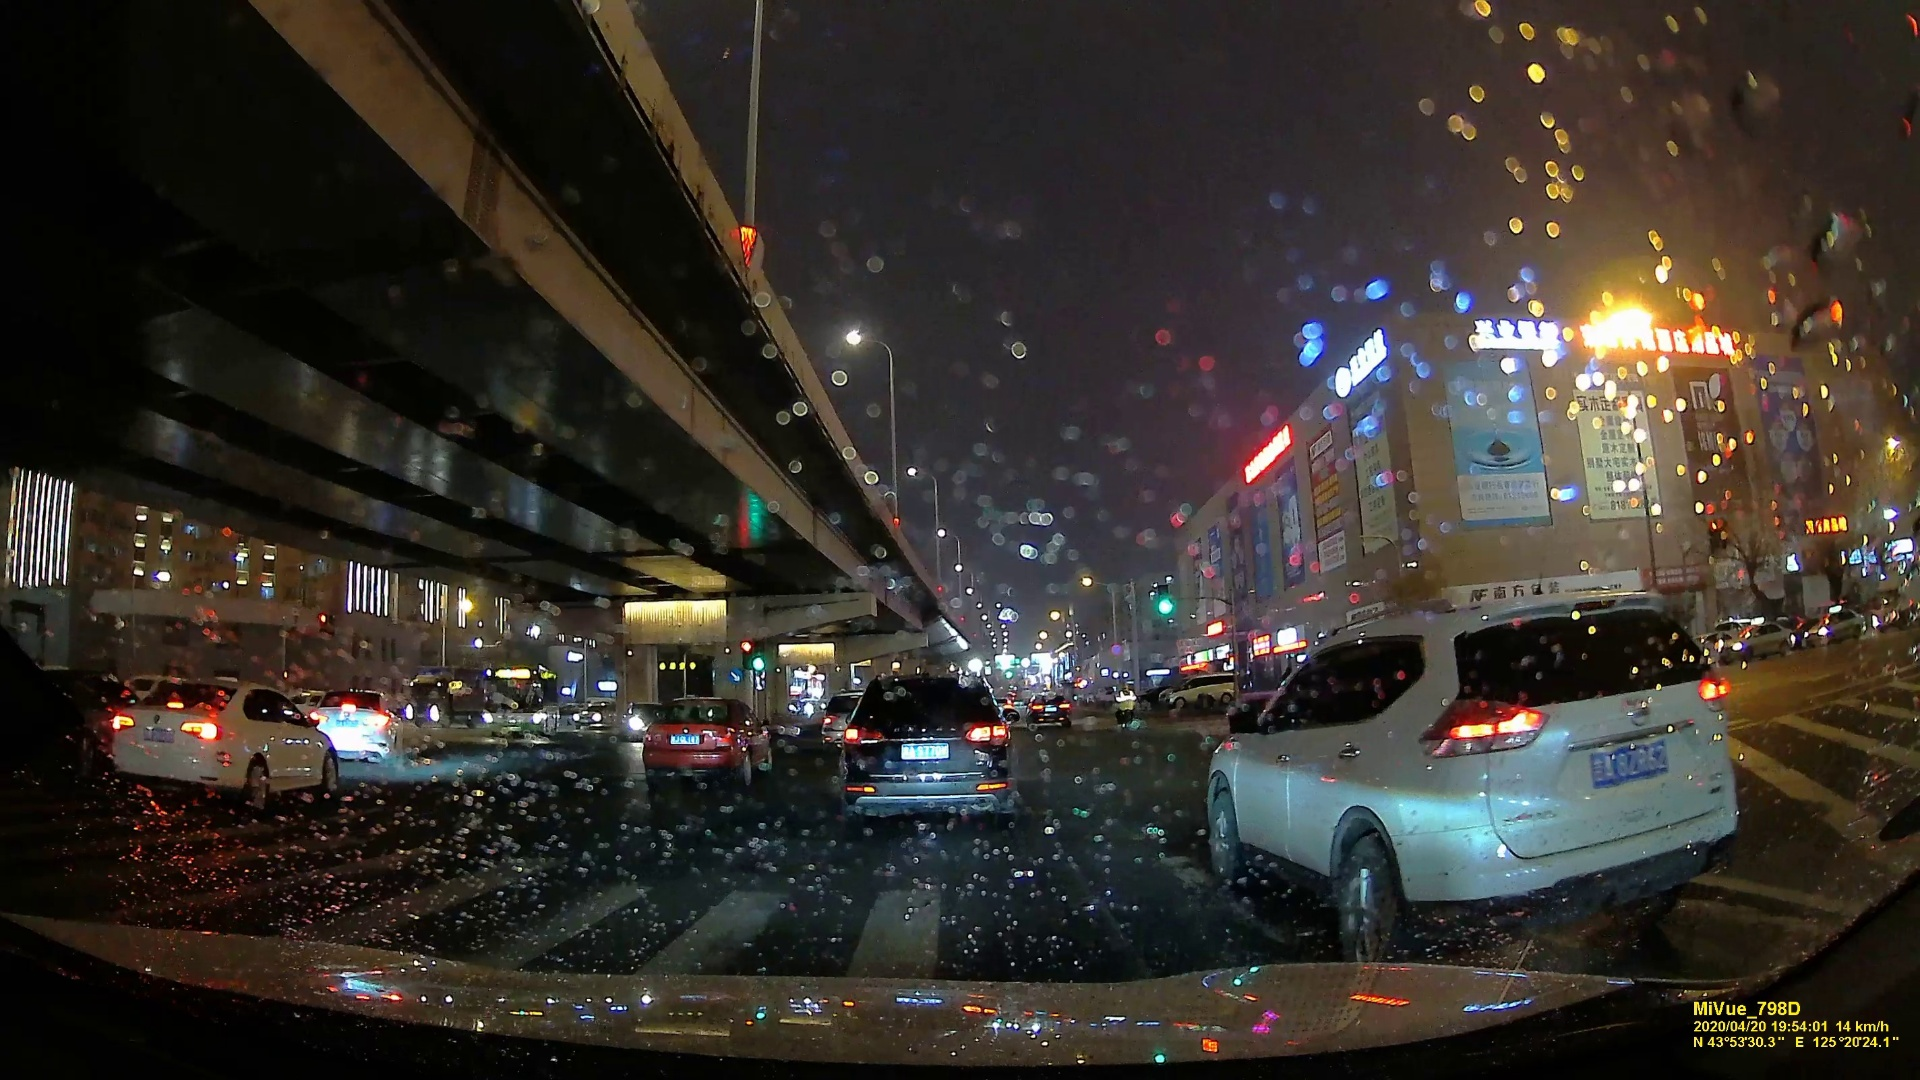person: (1116, 681, 1138, 712)
traffic_sign: (1153, 580, 1176, 617)
vehicle: (1207, 587, 1749, 956), (110, 678, 343, 811), (840, 671, 1015, 829), (644, 692, 772, 786), (1026, 692, 1072, 727)
